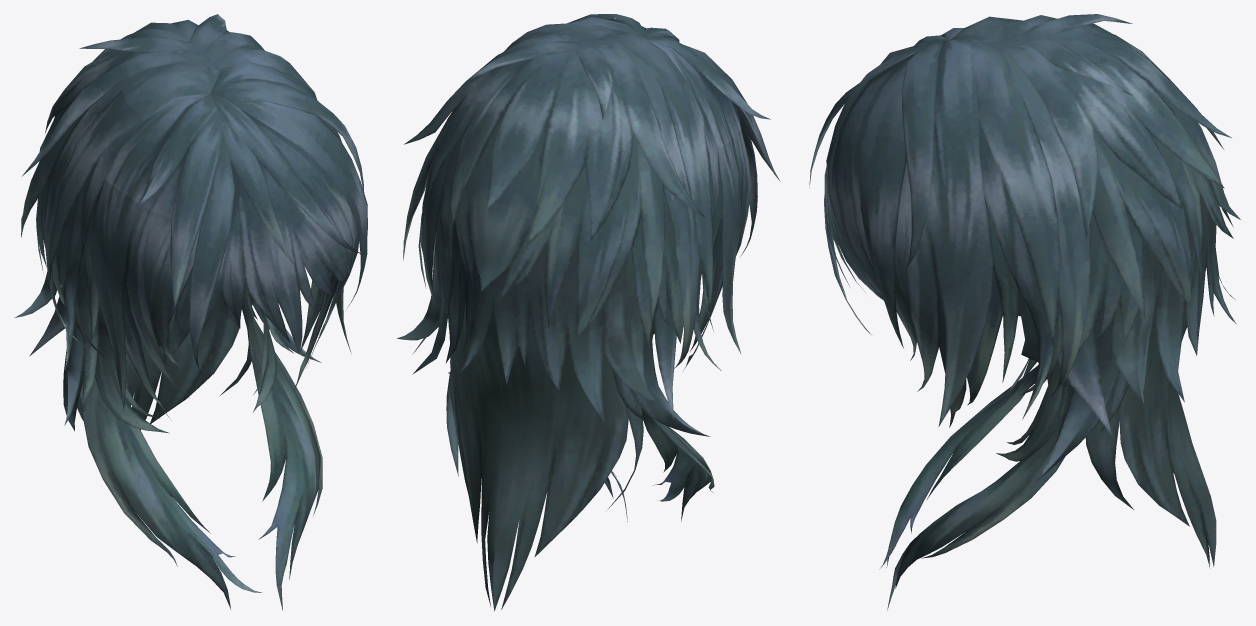
Rendered from Hair_Blue.fbx.
The picture shows the model from 3 angles, left to right: view 1: azimuth 30°, elevation 25°; view 2: azimuth 150°, elevation 25°; view 3: azimuth 270°, elevation 25°; orthographic projection. The views are drawn at different scales.
Parts seen in each view (by area): view 1: HairBlue; view 2: HairBlue; view 3: HairBlue.
Part boxes in pixels (x1,y1,x2,y2): HairBlue: [14, 14, 367, 610]; HairBlue: [397, 14, 780, 611]; HairBlue: [809, 14, 1240, 609].
Bounding box in the file's own units: 29.41 × 50.01 × 34.44.
Materials: 1 (1 with a texture image).
